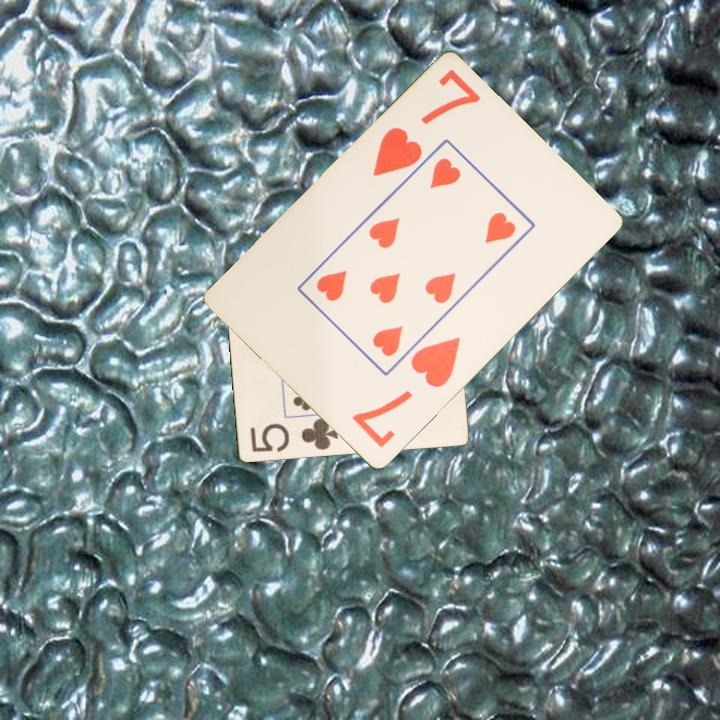5c: (247, 415, 341, 455)
7h: (348, 333, 464, 452), (369, 65, 483, 180)
